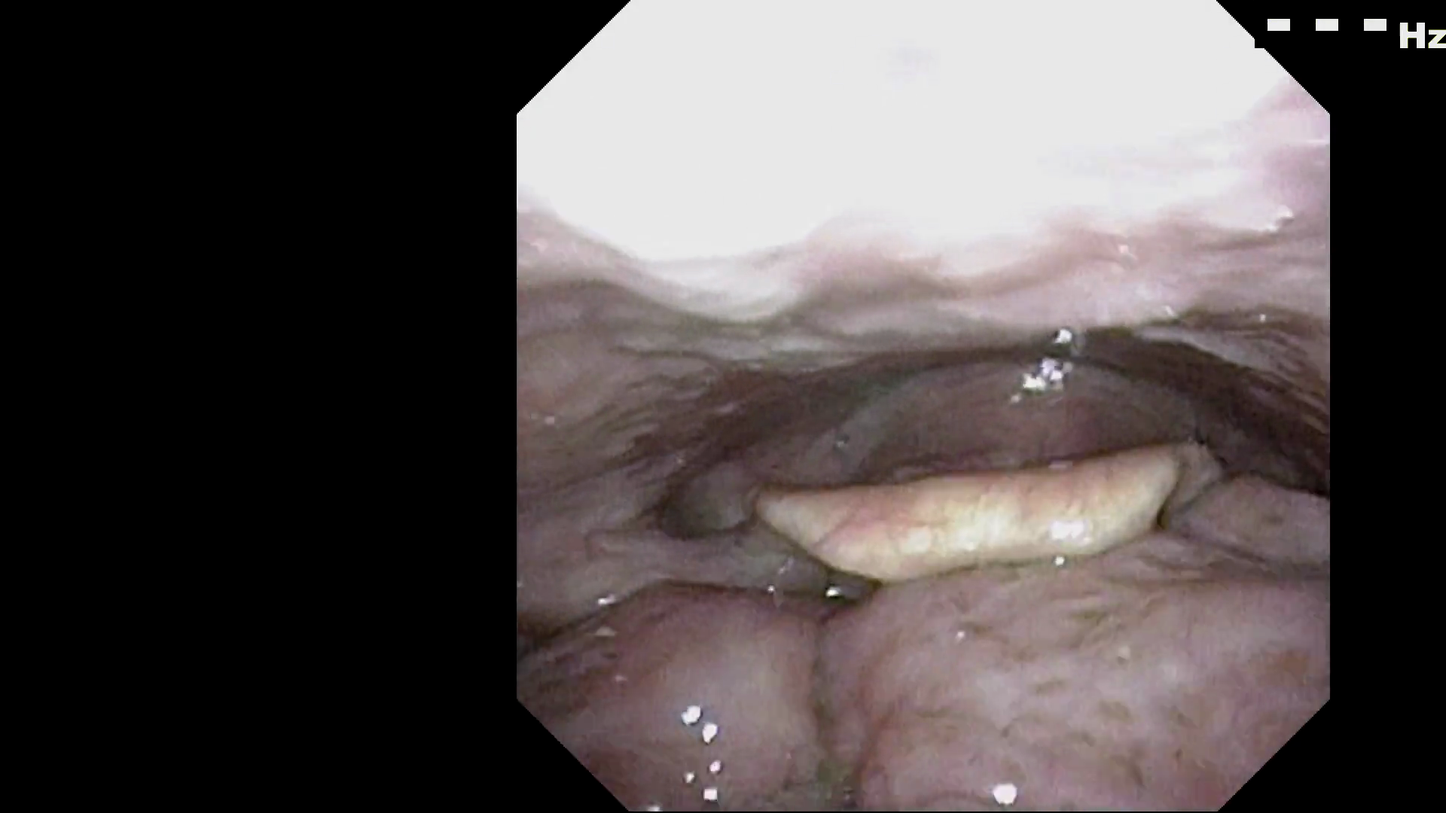epiglottis: (712, 479, 1254, 619)
